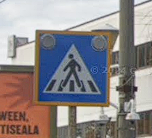trecere_pietoni: (32, 28, 110, 109)
